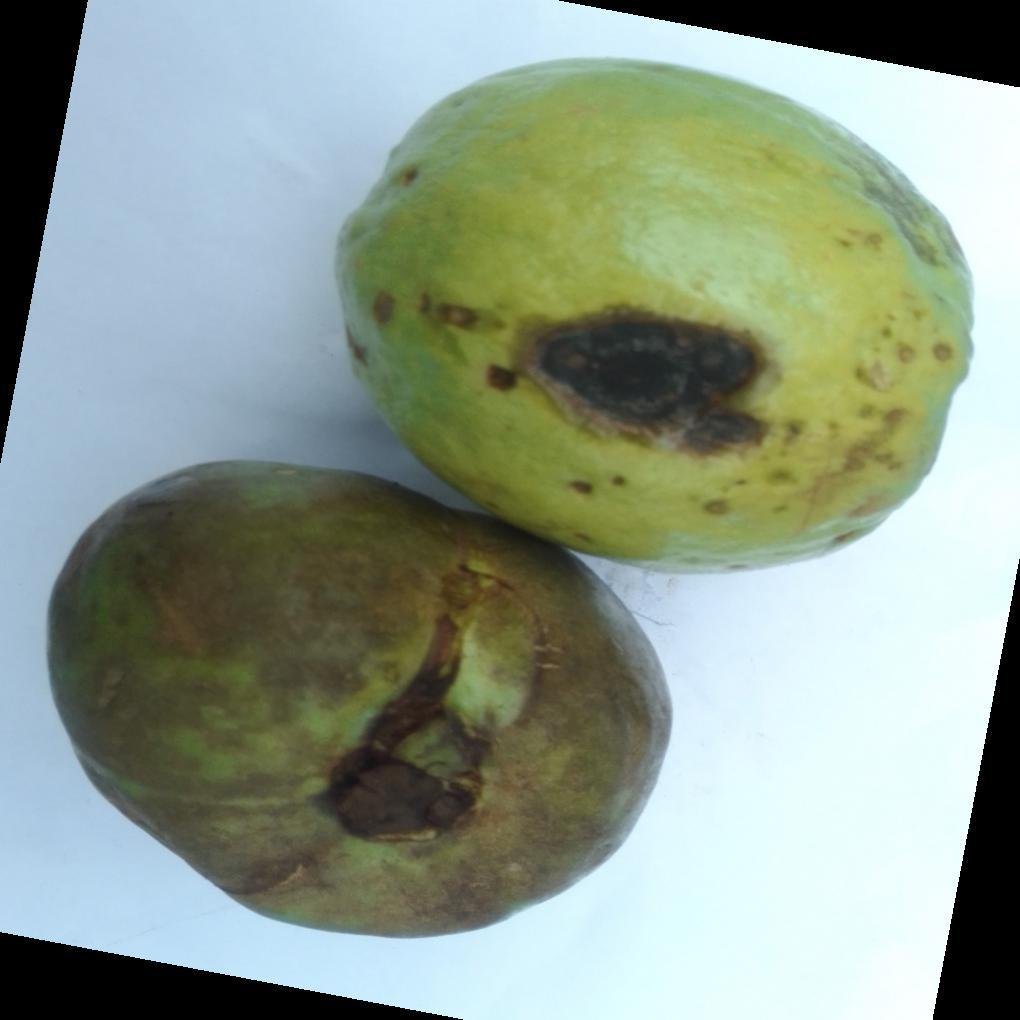FreshOrange: (44, 60, 977, 943)
